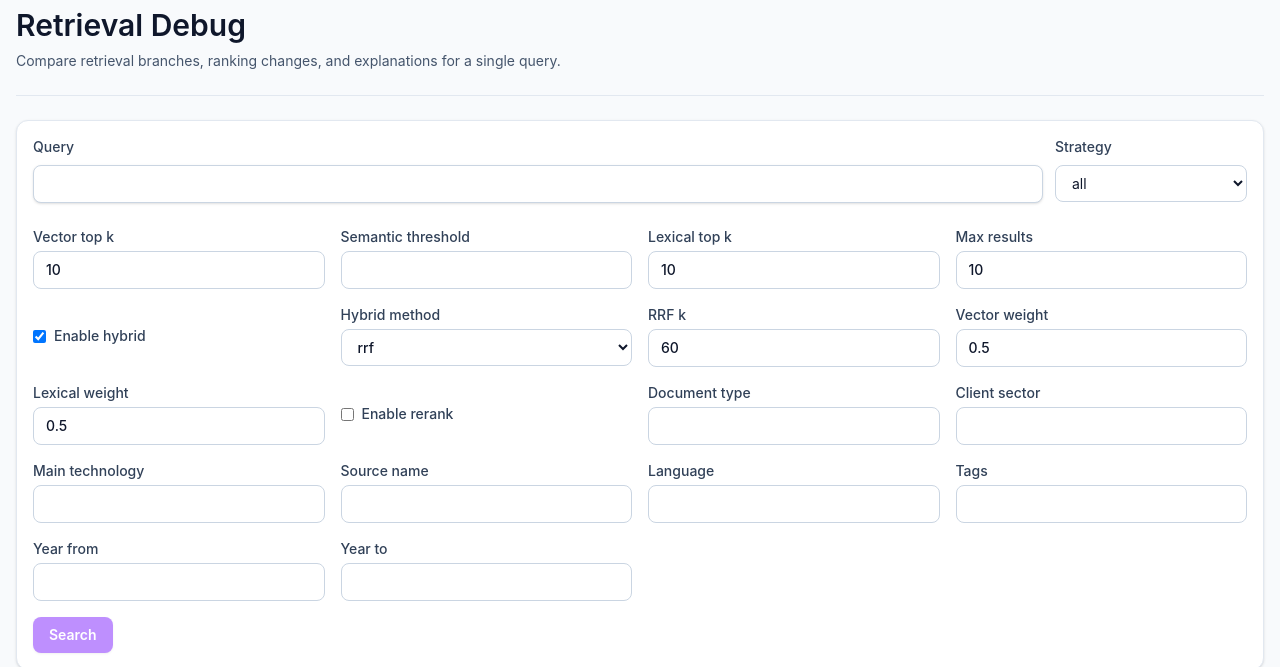
Test: RetrievalDebugPage › opens the chunk inspector drawer from a result row
In the search field labelled "Query": [538, 184] box x1=33 y1=165 x2=1043 y2=203, type "OAuth backend"
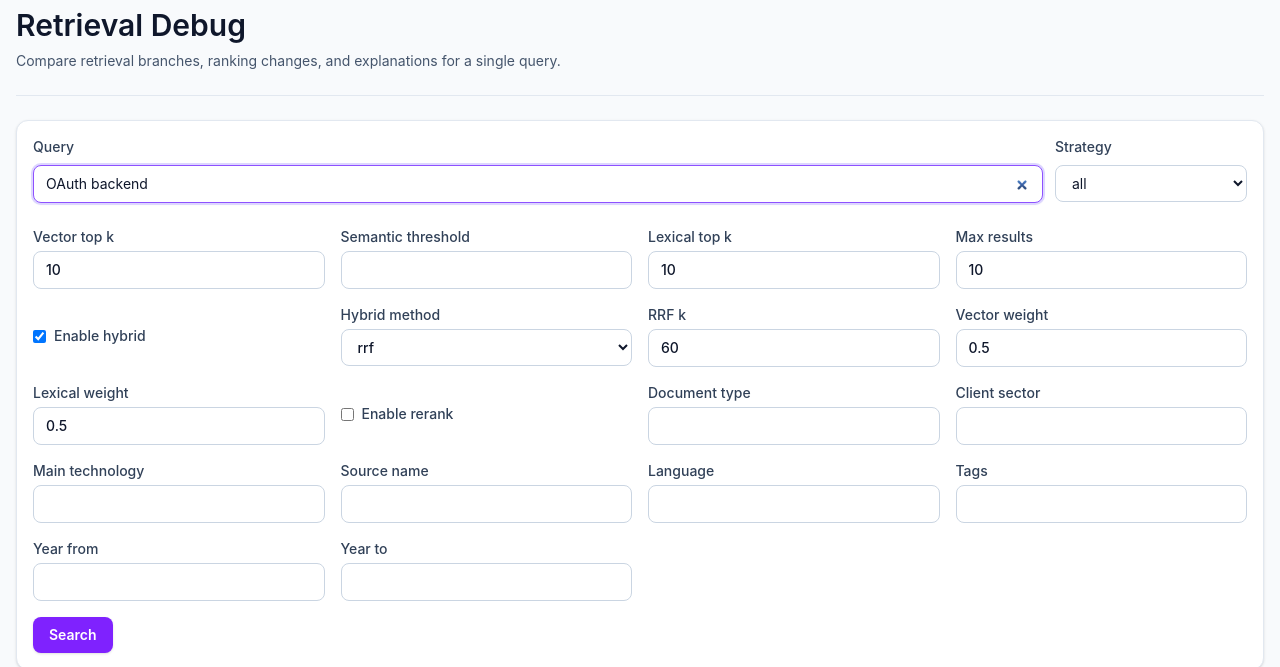
Click the button "Search": [73, 635] box x1=33 y1=617 x2=112 y2=653
(page scrolled)
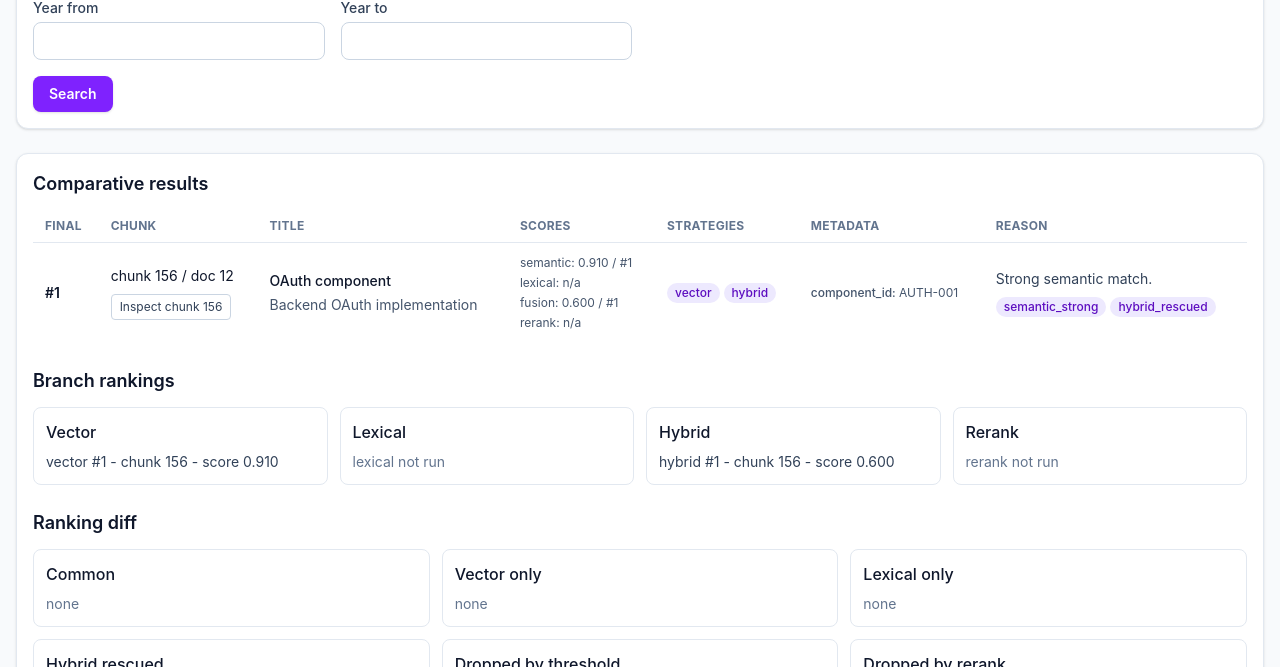
Click the button "Inspect chunk 156": [171, 307] box x1=111 y1=294 x2=231 y2=320
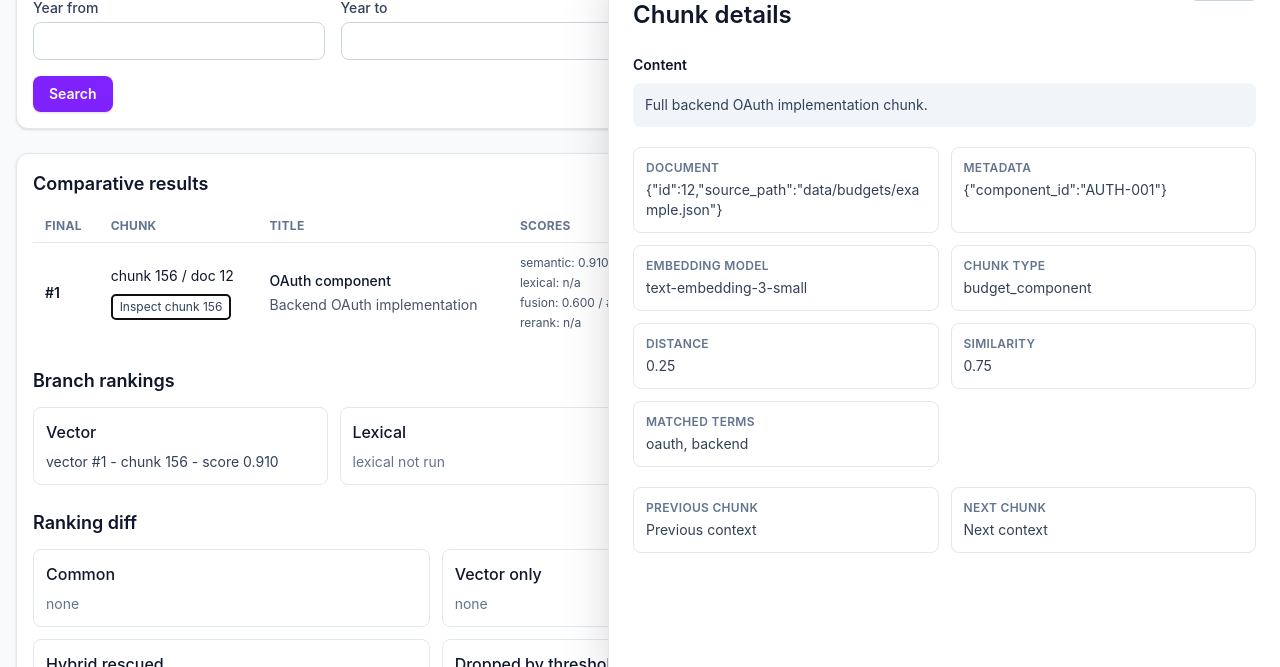
Expected: the text "Full backend OAuth implementation chunk." is shown, x1=633 y1=83 x2=1256 y2=127
Expected: the text "Previous context" is shown, x1=646 y1=521 x2=757 y2=538
Expected: the text "Next context" is shown, x1=964 y1=521 x2=1048 y2=538
